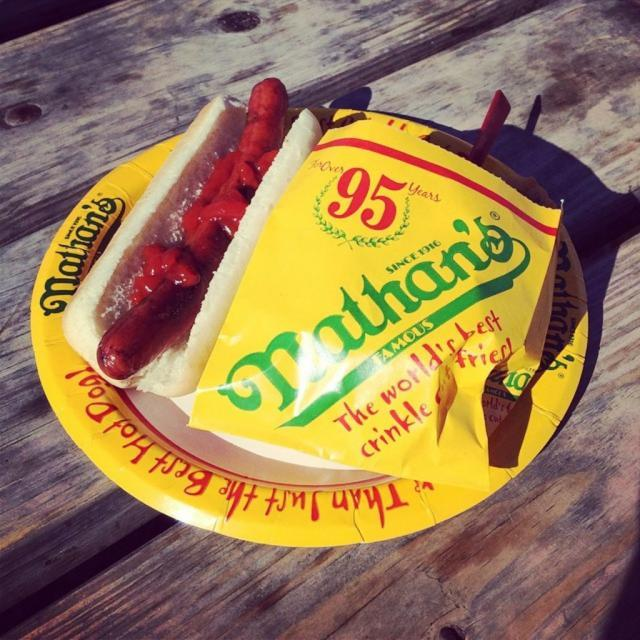Hot dog: (68, 62, 325, 425)
